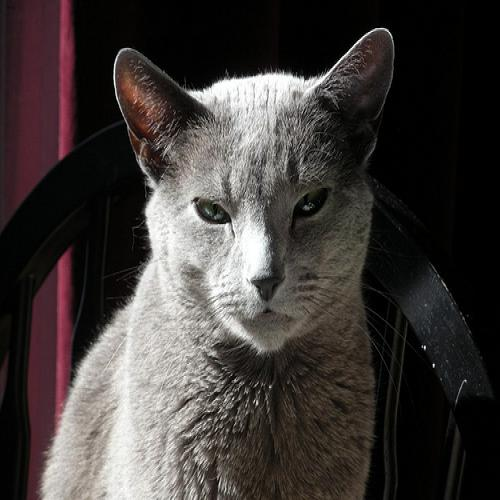rblue: (109, 22, 407, 372)
